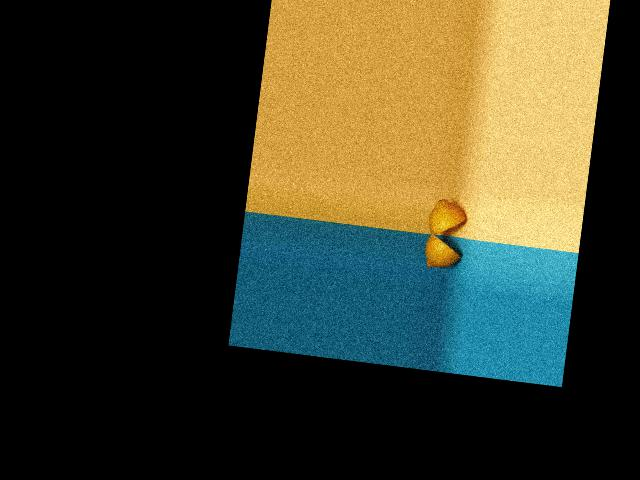lemon: (420, 232, 466, 275)
